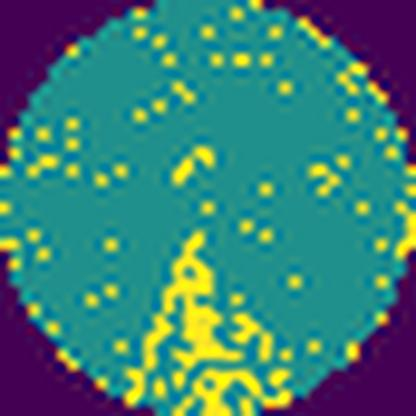Loc: (128, 233, 241, 402), (175, 365, 296, 416)
